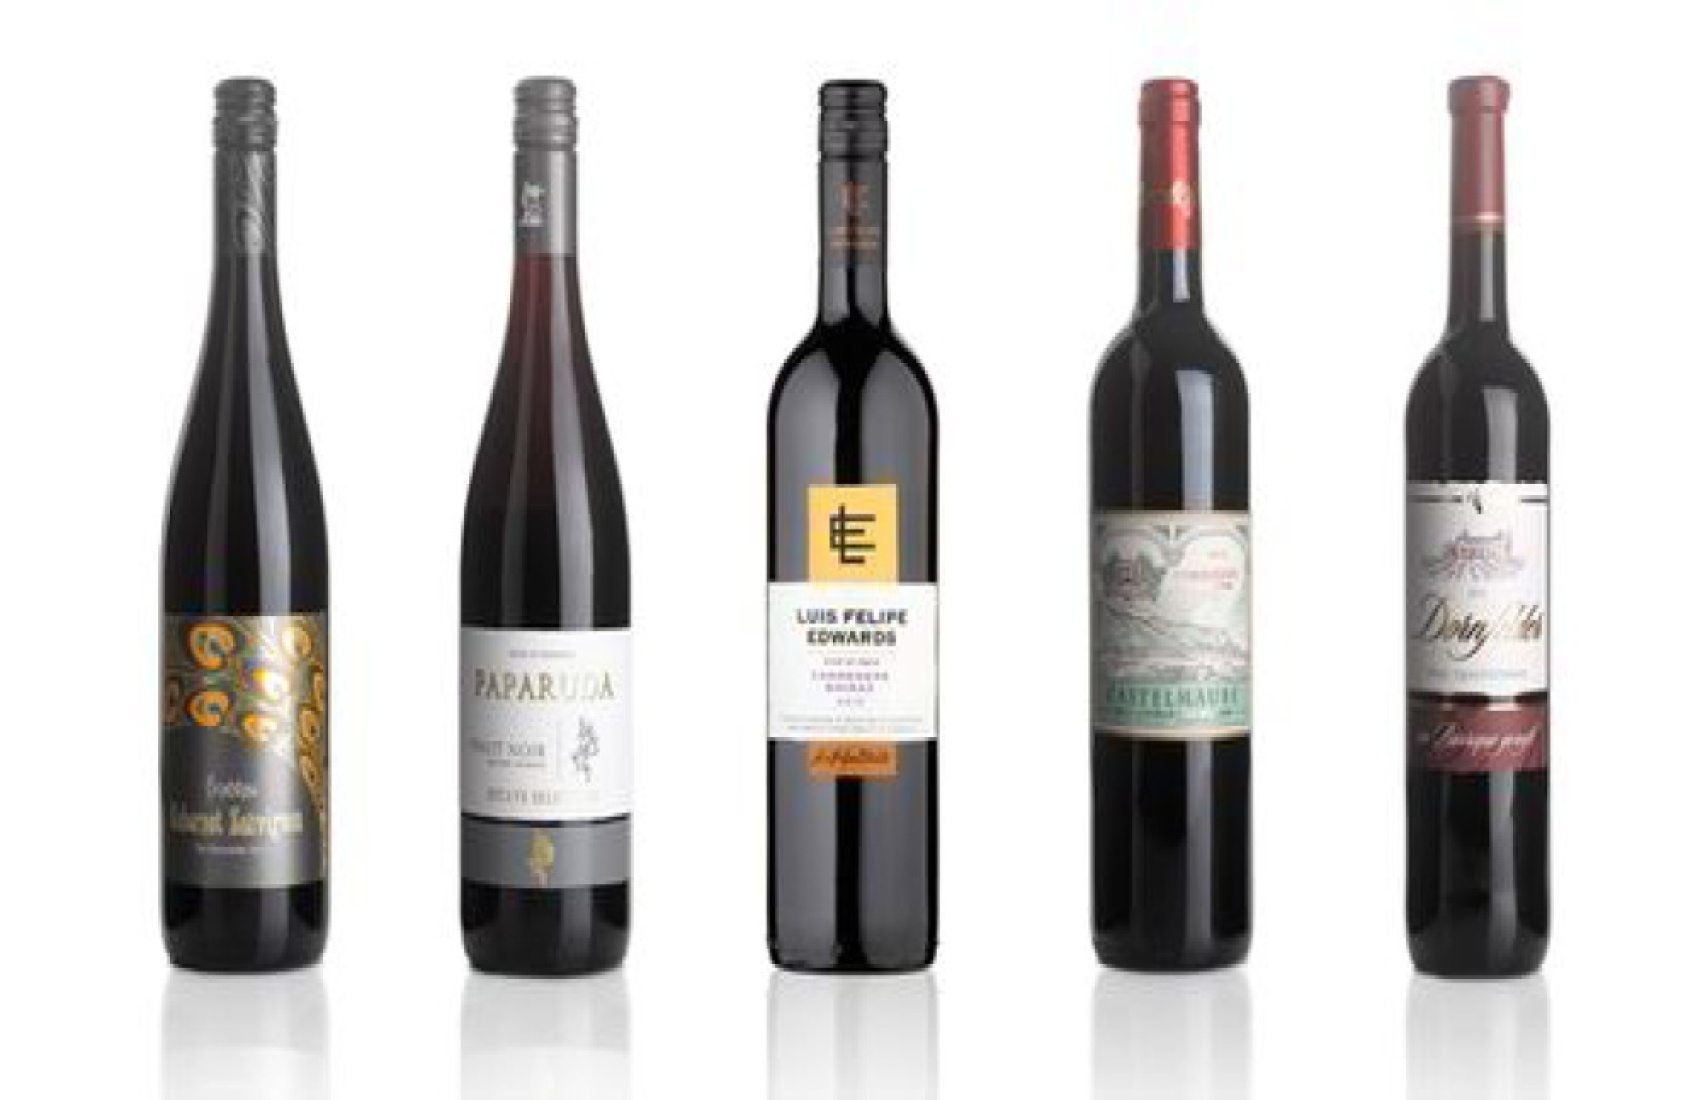wine: (152, 77, 328, 970), (463, 71, 639, 964), (767, 64, 943, 958), (1080, 81, 1256, 972), (1413, 83, 1550, 971)
